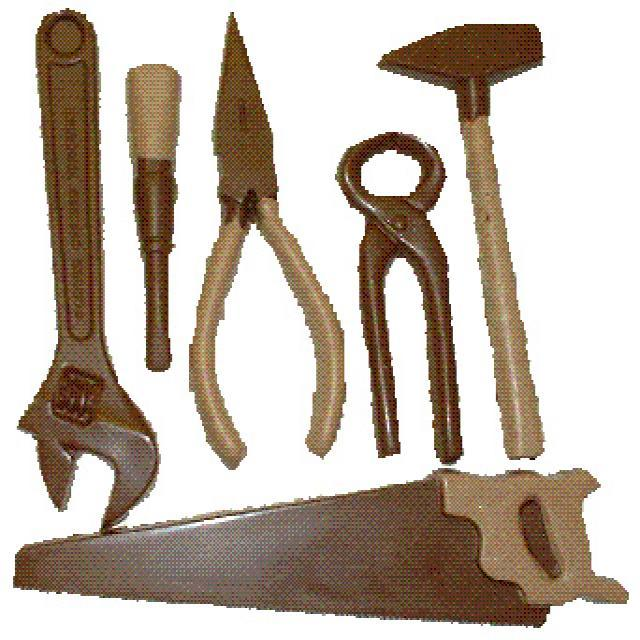hammer: (370, 7, 594, 463)
pliers: (182, 0, 350, 488), (328, 120, 480, 472)
wrench: (0, 0, 164, 534)
